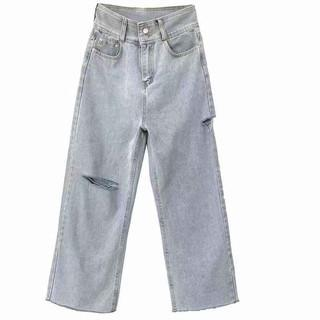pants: (41, 1, 239, 313)
